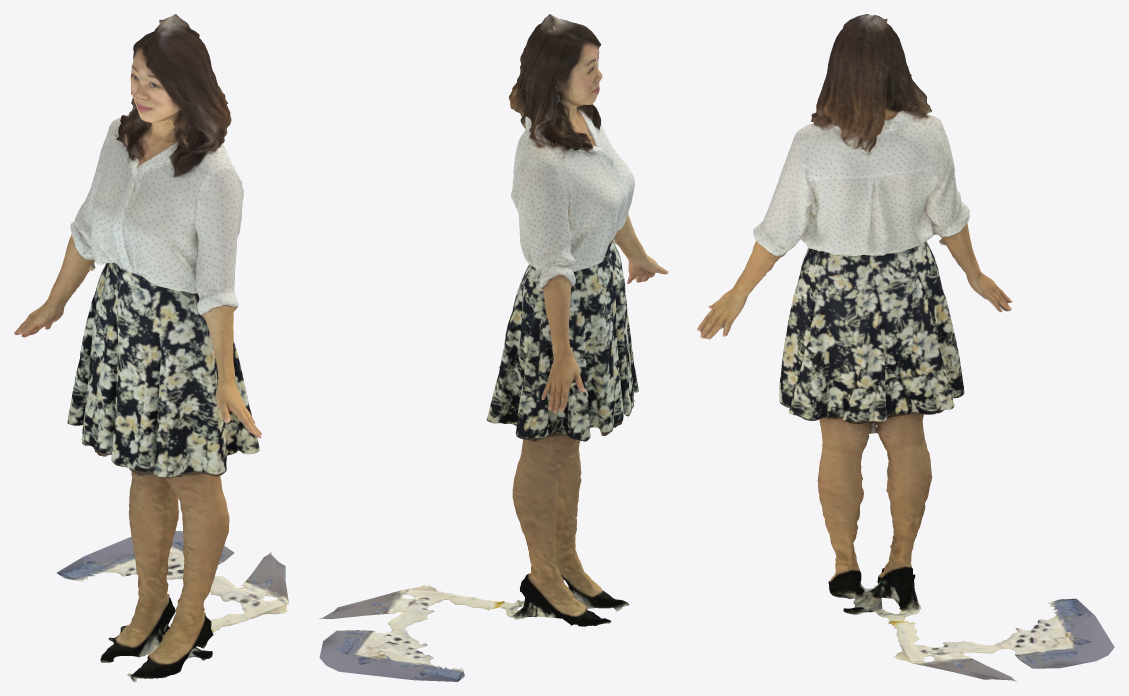
3 views of the same model, side by side, from view 1: azimuth 30°, elevation 25°; view 2: azimuth 150°, elevation 25°; view 3: azimuth 270°, elevation 25° (orthographic). The views are drawn at different scales.
Visible parts, largest first — view 1: meshNode; view 2: meshNode; view 3: meshNode.
Boxes of the visible parts, x1,y1,x2,y2 form: meshNode: [14, 14, 288, 681]; meshNode: [319, 14, 668, 681]; meshNode: [697, 14, 1114, 681].
Size of the model in its own units: 7.68 by 17.26 by 11.1.
Materials: 1 (1 with a texture image).
